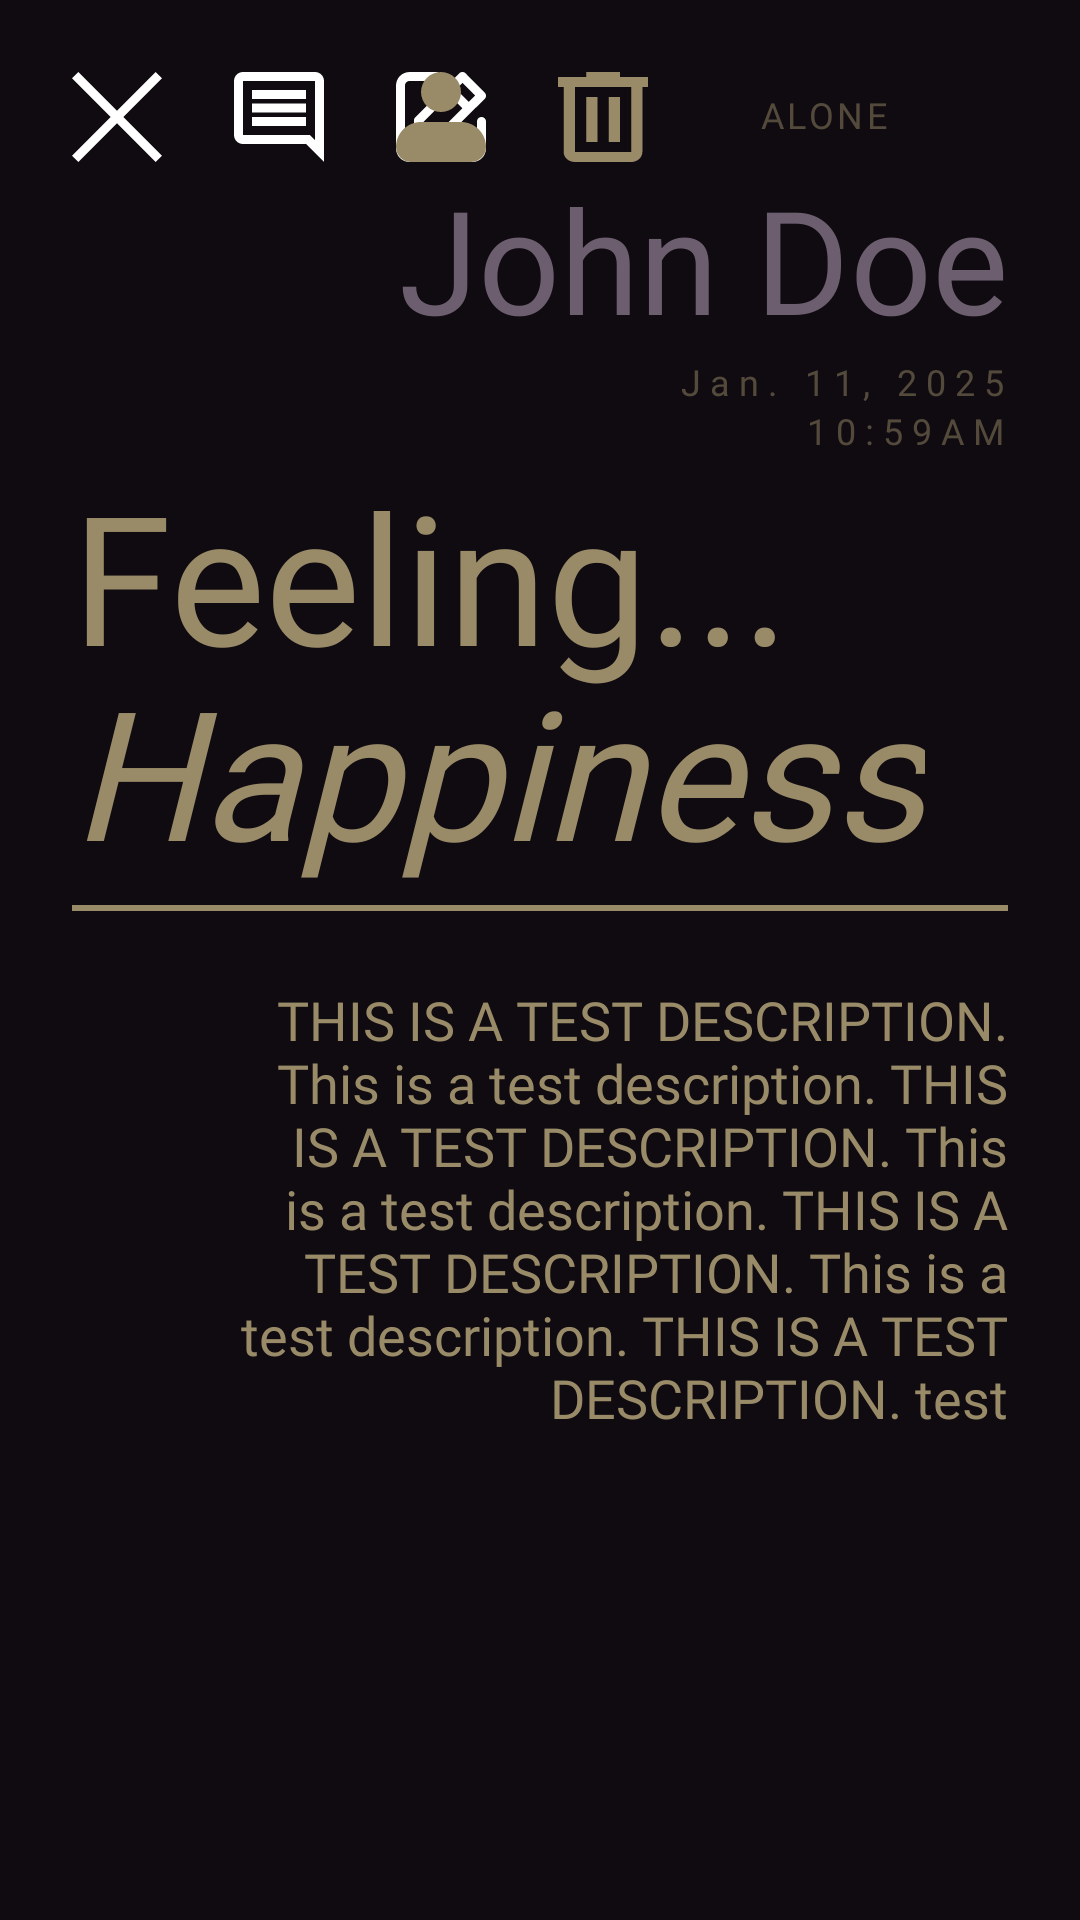

Screen size 1080*1920. Icon name, then its center in pixels as [x,y]:
commenticon: [279,117]
deleteicon: [603,117]
xicon: [117,117]
